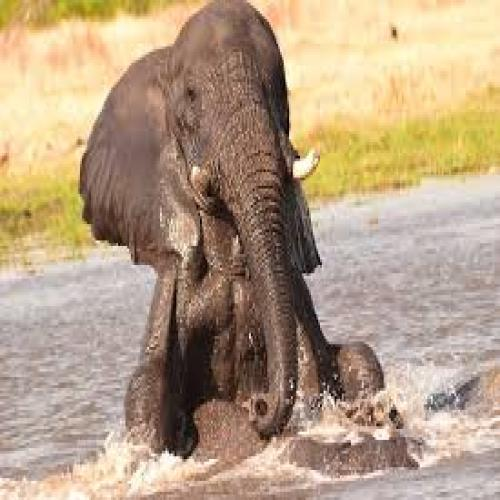asian_elephant-endangered: (80, 0, 383, 434)
